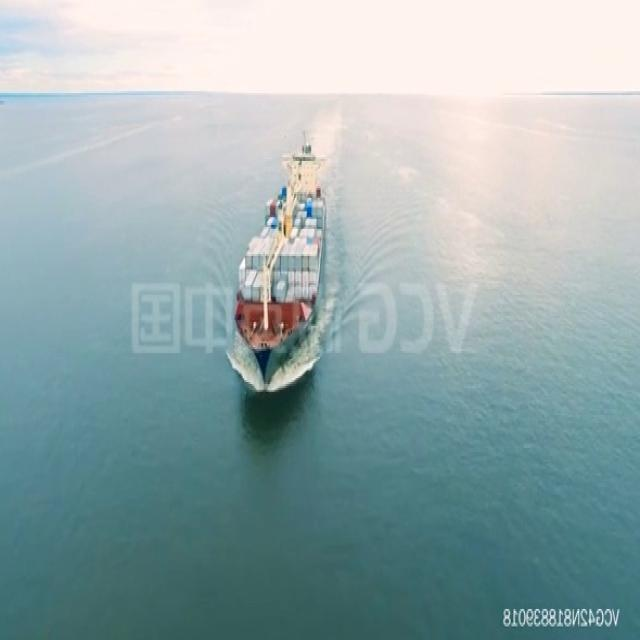cargoship: (230, 124, 334, 386)
